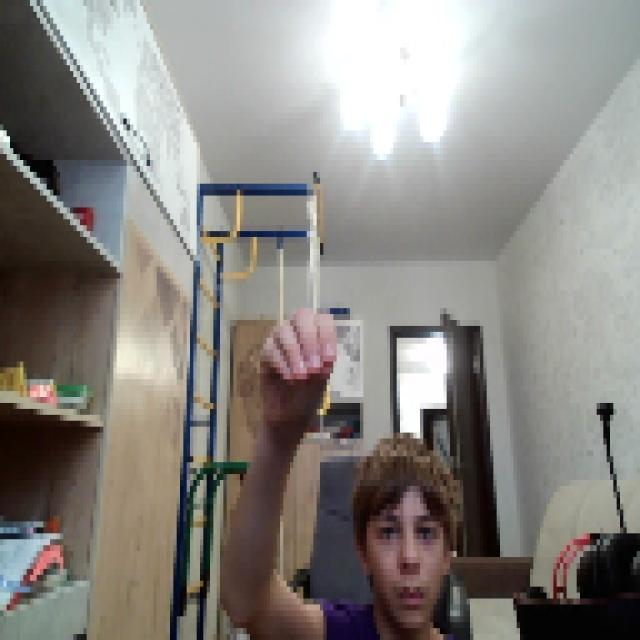left_click: (253, 302, 337, 433)
